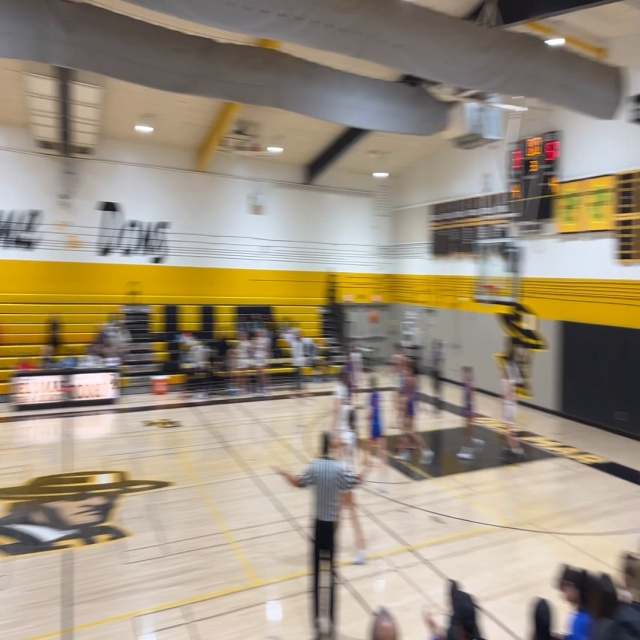Basketball: (367, 312, 379, 324)
